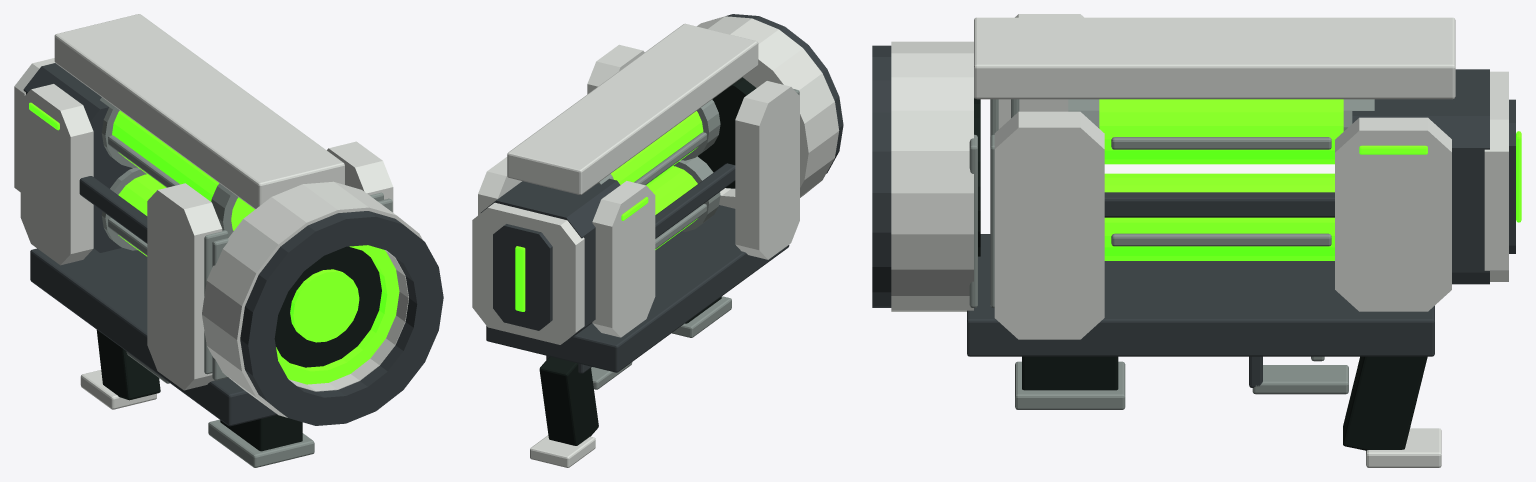
File: forge-plasma-lod1.glb
The picture shows the model from 3 angles, left to right: view 1: azimuth 30°, elevation 25°; view 2: azimuth 150°, elevation 25°; view 3: azimuth 270°, elevation 25°; orthographic projection. The views are drawn at different scales.
Parts seen in each view (by area): view 1: forge ceramic.001 geometry, forge graphite.001 geometry, forge plasma green.001 geometry, forge bore rubber.001 geometry, forge steel.001 geometry; view 2: forge ceramic.001 geometry, forge graphite.001 geometry, forge bore rubber.001 geometry, forge steel.001 geometry, forge plasma green.001 geometry; view 3: forge ceramic.001 geometry, forge graphite.001 geometry, forge plasma green.001 geometry, forge steel.001 geometry, forge bore rubber.001 geometry.
Part boxes in pixels (x1,y1,x2,y2): forge ceramic.001 geometry: (14,14,422,417); forge graphite.001 geometry: (23,63,443,426); forge plasma green.001 geometry: (29,102,399,384); forge bore rubber.001 geometry: (96,246,381,451); forge steel.001 geometry: (100,97,392,467); forge ceramic.001 geometry: (472,16,839,467); forge graphite.001 geometry: (481,14,843,373); forge bore rubber.001 geometry: (539,77,756,445); forge steel.001 geometry: (591,89,799,389); forge plasma green.001 geometry: (515,111,703,311); forge ceramic.001 geometry: (891,14,1508,467); forge graphite.001 geometry: (872,45,1515,387); forge plasma green.001 geometry: (1099,99,1521,260); forge steel.001 geometry: (969,99,1374,409); forge bore rubber.001 geometry: (974,97,1427,450).
Size of the model in its own units: 0.396 by 0.665 by 0.9435.
